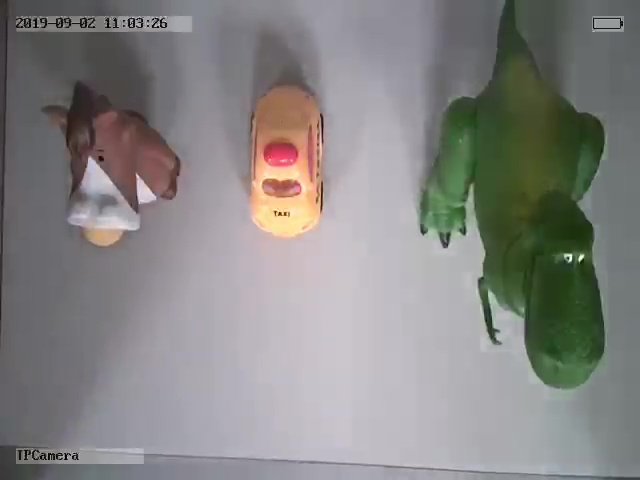car: (247, 81, 327, 238)
horse: (42, 82, 181, 247)
rex: (420, 8, 606, 391)
